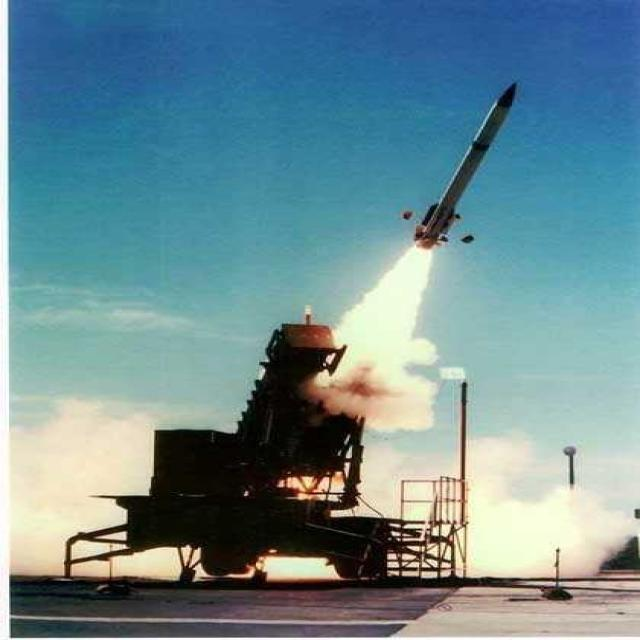missile: (410, 80, 522, 252)
